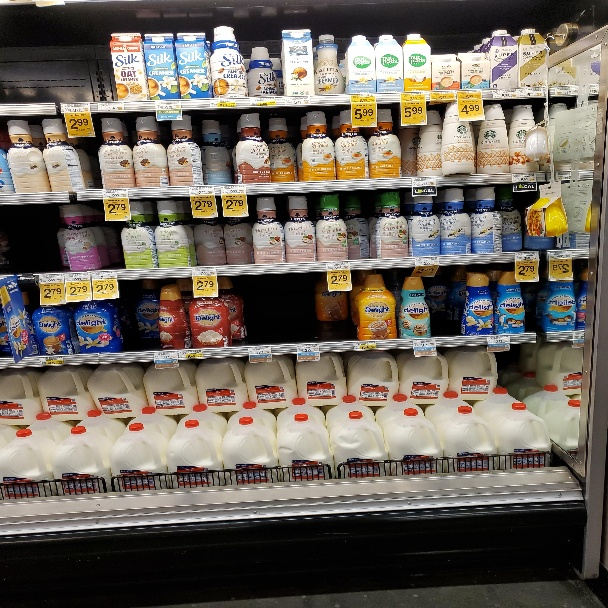All PRICE TAGS: (250, 97, 279, 106), (63, 102, 89, 112), (211, 98, 236, 108), (96, 102, 123, 111), (284, 96, 311, 105), (518, 88, 545, 97), (102, 189, 129, 198), (350, 94, 374, 104), (493, 89, 517, 99), (153, 350, 179, 359), (155, 100, 181, 109), (220, 185, 246, 194), (38, 274, 63, 283), (189, 186, 214, 195), (92, 270, 117, 279), (459, 90, 481, 100), (486, 335, 510, 344), (515, 251, 539, 260), (556, 86, 580, 95), (401, 92, 425, 101), (413, 177, 437, 186), (192, 266, 216, 275), (325, 261, 349, 270), (413, 338, 436, 347), (296, 343, 319, 352), (65, 273, 88, 282), (249, 345, 271, 354), (431, 91, 453, 100), (353, 341, 377, 349), (548, 251, 572, 259), (39, 357, 63, 365), (512, 173, 536, 181), (416, 257, 440, 265), (180, 351, 203, 358), (65, 274, 90, 280), (556, 172, 572, 180), (572, 331, 584, 339), (590, 85, 598, 94)
